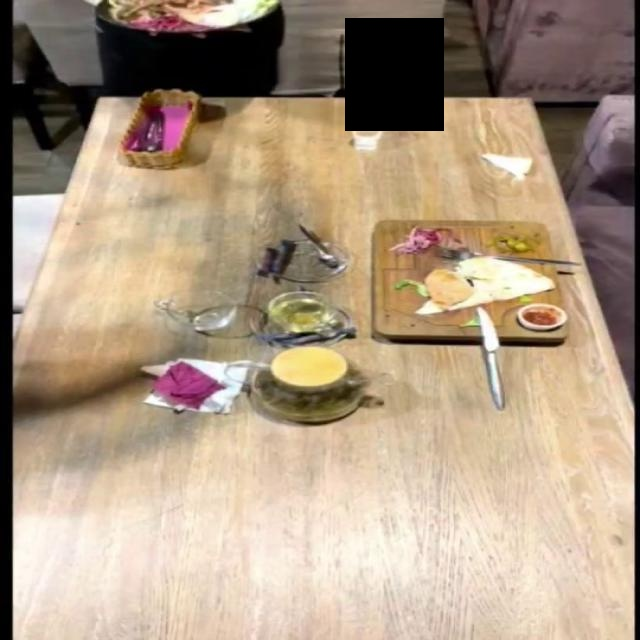meat: (366, 216, 571, 346), (77, 0, 290, 50)
tea: (252, 345, 371, 422)
